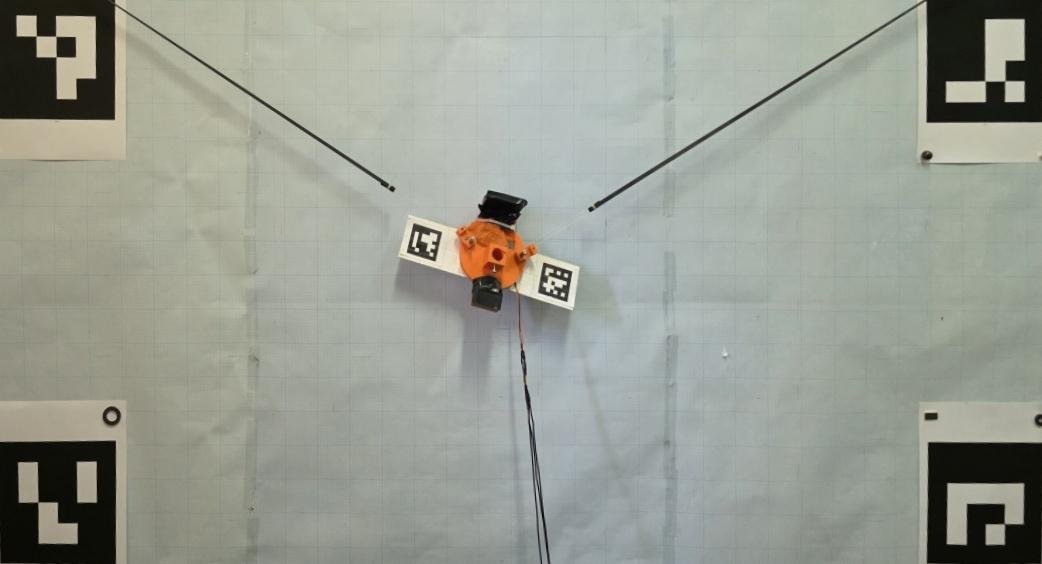robot: (455, 189, 539, 314)
